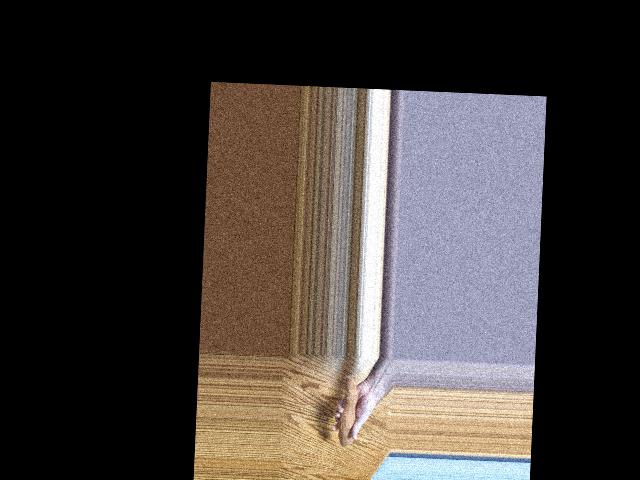sweet_potato: (335, 372, 367, 453)
